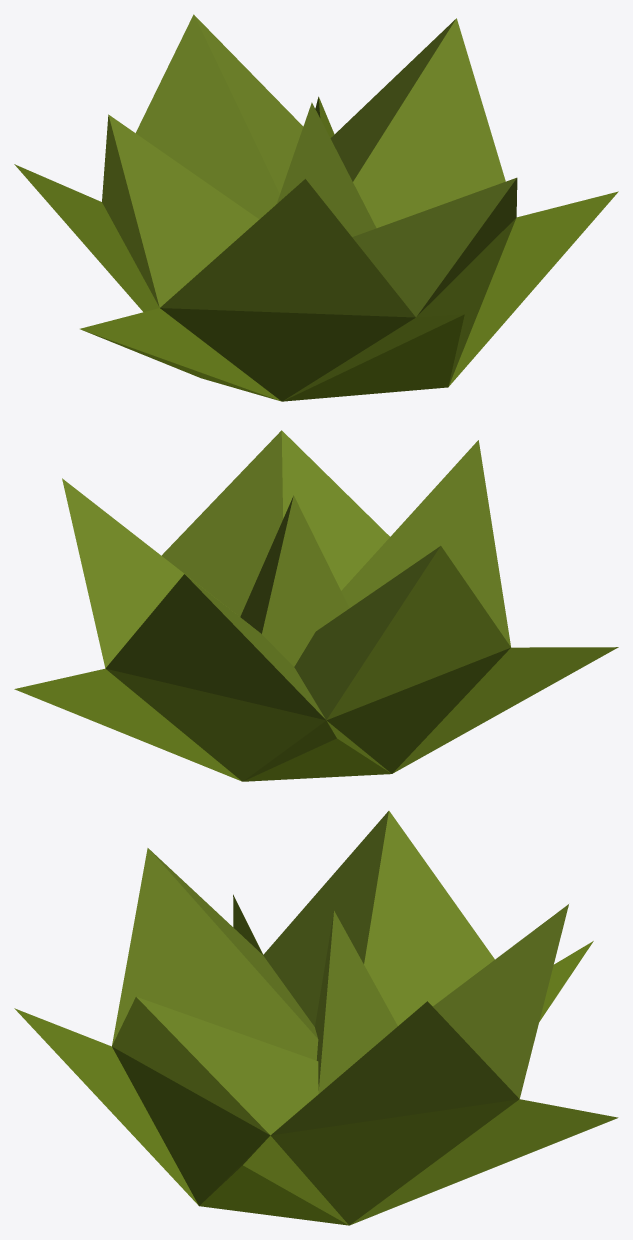
The model's file is BushAutumn5.fbx.
3 views of the same model, one above another, from view 1: azimuth 30°, elevation 25°; view 2: azimuth 150°, elevation 25°; view 3: azimuth 270°, elevation 25° (orthographic). The views are drawn at different scales.
Parts seen in each view (by area): view 1: BushAutumn5; view 2: BushAutumn5; view 3: BushAutumn5.
Part boxes in pixels (x1,y1,x2,y2): BushAutumn5: [14, 14, 618, 401]; BushAutumn5: [14, 430, 618, 781]; BushAutumn5: [14, 811, 618, 1225].
Bounding box in the file's own units: 0.7751 × 0.3647 × 0.728.
